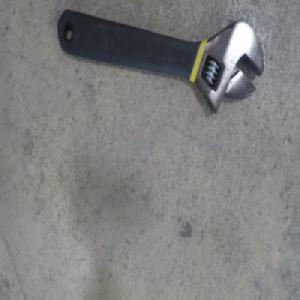AdjustableWrench: (55, 9, 261, 118)
